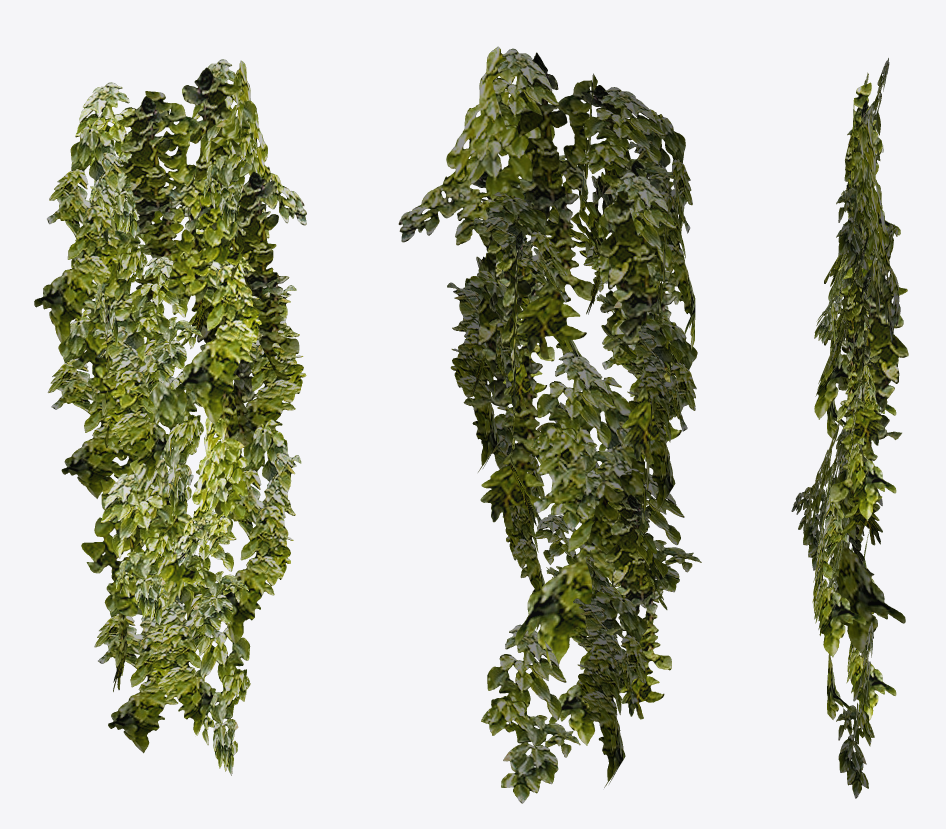
The model's file is ivy13_lod1.fbx.
3 renders of one model, left to right at view 1: azimuth 30°, elevation 25°; view 2: azimuth 150°, elevation 25°; view 3: azimuth 270°, elevation 25°, orthographic. The views are drawn at different scales.
Visible parts, largest first — view 1: Mesh Object; view 2: Mesh Object; view 3: Mesh Object.
Part boxes in pixels (x1,y1,x2,y2): Mesh Object: [34, 59, 306, 775]; Mesh Object: [398, 46, 701, 803]; Mesh Object: [791, 58, 908, 798].
Bounding box in the file's own units: 0.6967 × 1.46 × 0.3016.
